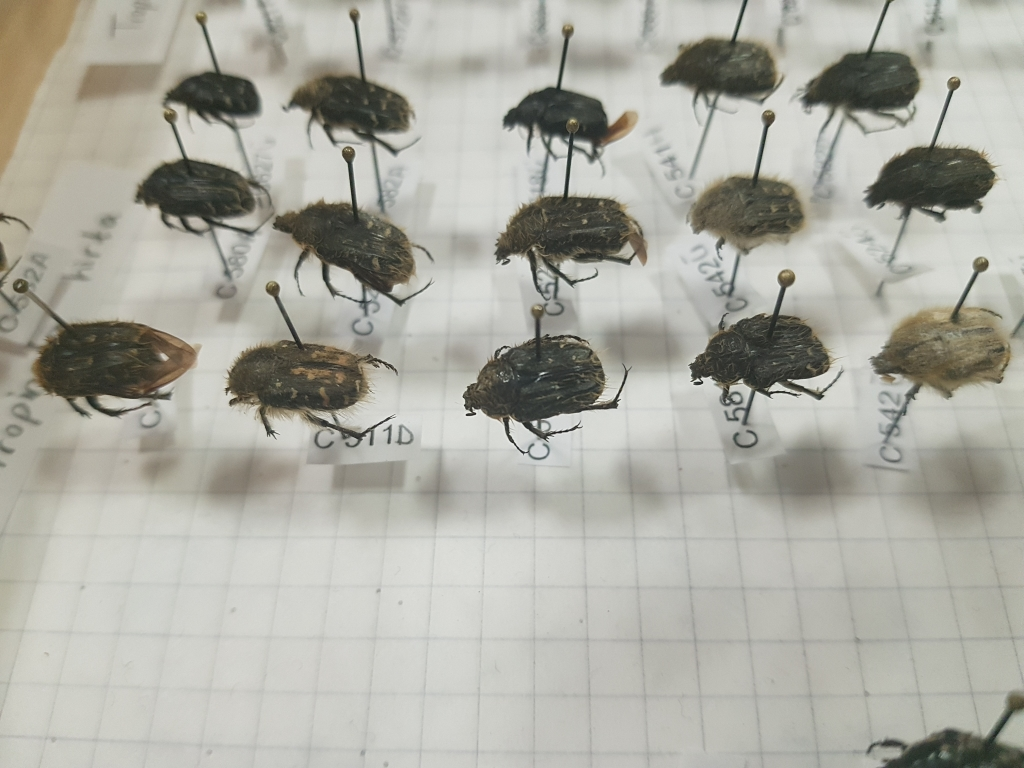Tropinota_hirta: (231, 340, 415, 441), (490, 179, 669, 281)
